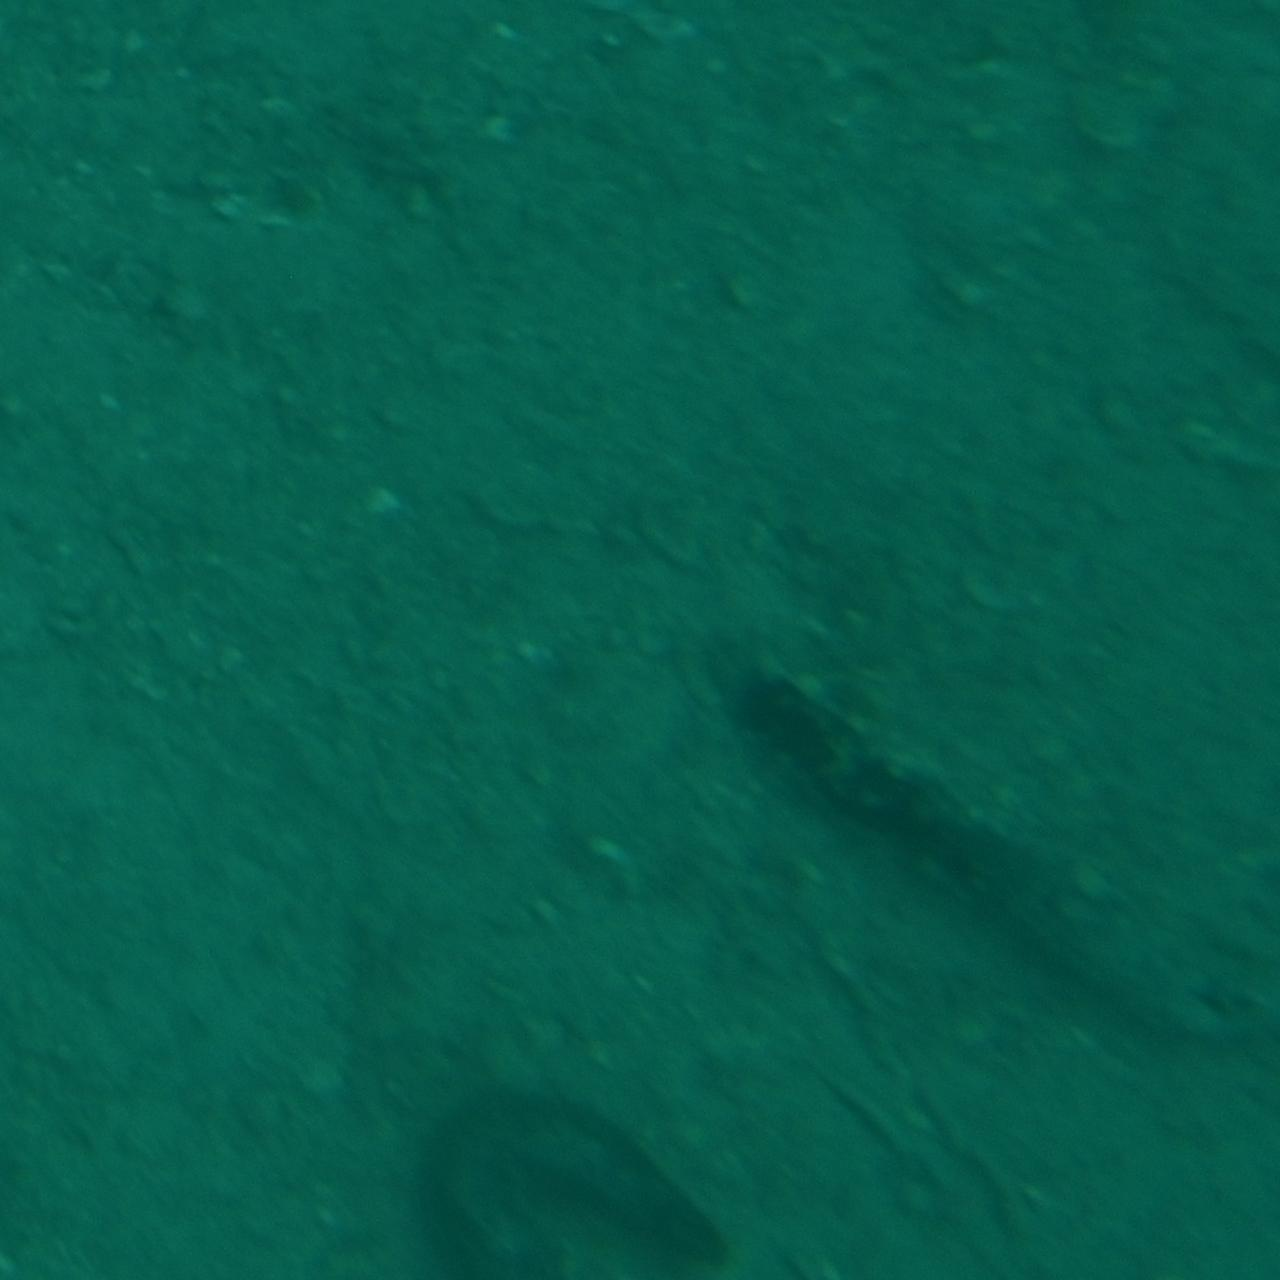Holothuria tubulosa: (703, 640, 1279, 1102), (373, 1091, 722, 1279)
